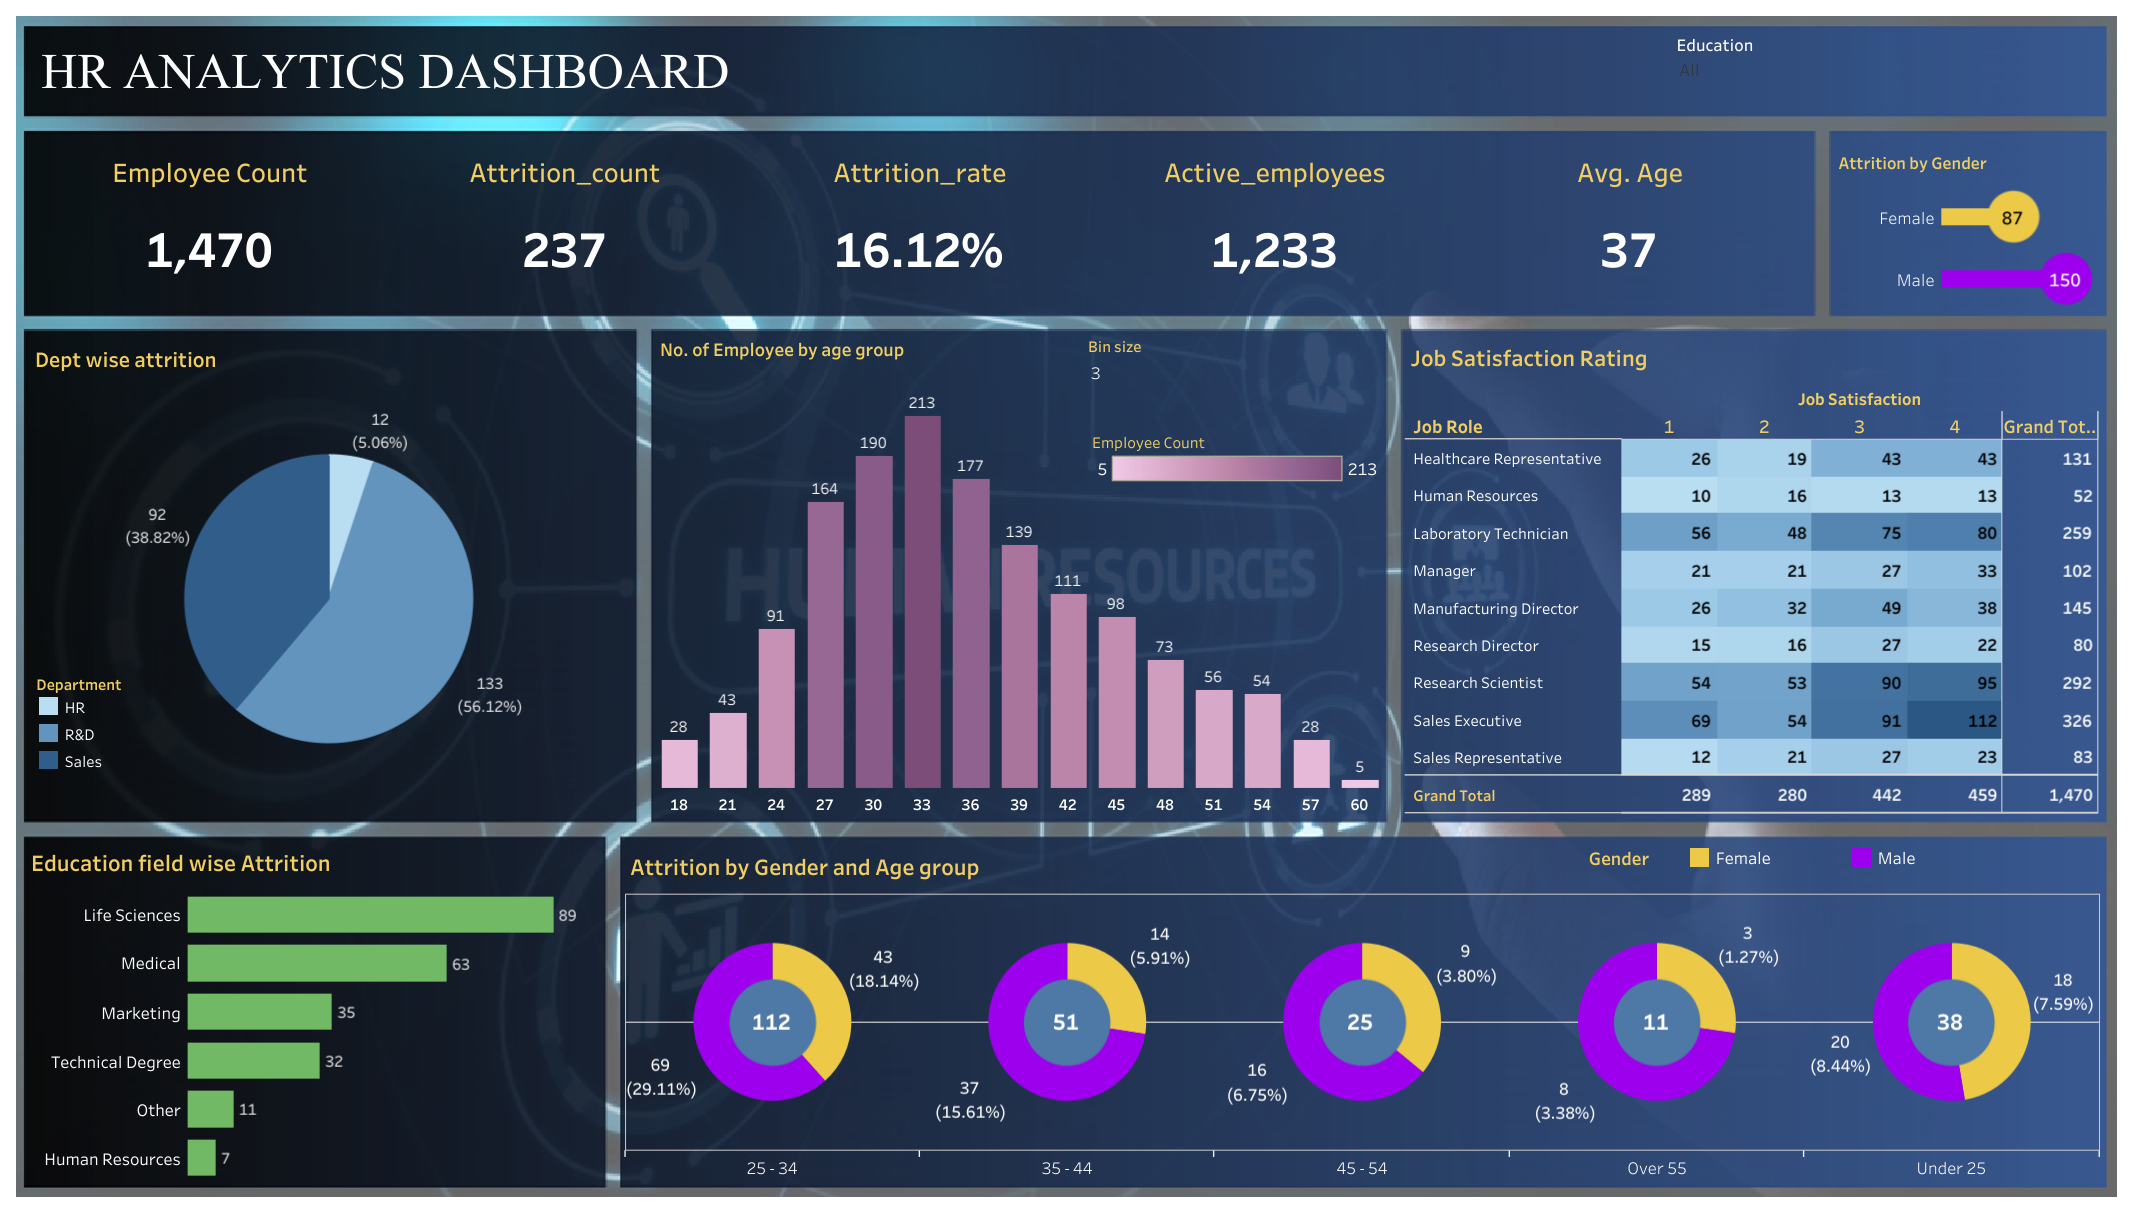

This screenshot's page, from the dashboard's own definition file:
{"tool":"tableau","page":{"name":"HR Analytics Dashboard","canvas":[1580,900],"ordinal":0},"visuals":[{"type":"image","param":"Image/HR background.png","box":[8,8,1564,884]},{"type":"text","box":[28,22,967,60]},{"type":"filter","title":"KPI","param":"[federated.00lw8580yt7e21120px890b2l973].[none:Education:nk]","box":[1242,23,312,55]},{"type":"worksheet","title":"KPI","mark":"Automatic","box":[24,101,1315,125]},{"type":"worksheet","title":"Attrition by Gender","mark":"Automatic","rows":["Gender"],"cols":["Calculation_329888731492929536","Calculation_329888731492929536"],"box":[1358,105,197,124]},{"type":"worksheet","title":"No. of Employee by age group","mark":"Automatic","rows":["Employee Count"],"cols":["Age (bin)"],"box":[485,243,540,361]},{"type":"worksheet","title":"Job Satisfaction Rating","mark":"Square","rows":["Job Role"],"cols":["Job Satisfaction"],"box":[1041,247,514,356]},{"type":"parameter","param":"[Parameters].[Parameter 1]","box":[806,248,220,51]},{"type":"worksheet","title":"Dept wise attrition","mark":"Pie","box":[22,249,443,353]},{"type":"legend","title":"No. of Employee by age group","param":"[federated.00lw8580yt7e21120px890b2l973].[sum:Employee Count:qk]","box":[809,314,216,67]},{"type":"legend","title":"Dept wise attrition","param":"[federated.00lw8580yt7e21120px890b2l973].[none:Department:nk]","box":[26,497,147,100]},{"type":"worksheet","title":"Education field wise Attrition","mark":"Automatic","rows":["Education Field"],"cols":["Calculation_329888731492929536"],"box":[19,621,428,255]},{"type":"worksheet","title":"Attrition by Gender and Age group","mark":"Pie","rows":["Calculation_1761751938061656065","Calculation_1761751938061656065"],"cols":["CF_age band"],"box":[463,624,1093,251]},{"type":"legend","title":"Attrition by Gender and Age group","param":"[federated.00lw8580yt7e21120px890b2l973].[none:Gender:nk]","box":[1177,625,378,37]}]}

Visuals, with their boxes in screenshot pixels (x1, y1, x2, y2), scaled from the page's 1580x900 canvas onto the 2132x1214 screenshot:
image: [left=11, top=11, right=2121, bottom=1203]
text: [left=38, top=30, right=1343, bottom=111]
"KPI" filter: [left=1676, top=31, right=2097, bottom=105]
"KPI" worksheet: [left=32, top=136, right=1807, bottom=305]
"Attrition by Gender" worksheet: [left=1832, top=142, right=2098, bottom=309]
"No. of Employee by age group" worksheet: [left=654, top=328, right=1383, bottom=815]
"Job Satisfaction Rating" worksheet (Square marks): [left=1405, top=333, right=2098, bottom=813]
parameter: [left=1088, top=335, right=1384, bottom=403]
"Dept wise attrition" worksheet (Pie marks): [left=30, top=336, right=627, bottom=812]
"No. of Employee by age group" legend: [left=1092, top=424, right=1383, bottom=514]
"Dept wise attrition" legend: [left=35, top=670, right=233, bottom=805]
"Education field wise Attrition" worksheet: [left=26, top=838, right=603, bottom=1182]
"Attrition by Gender and Age group" worksheet (Pie marks): [left=625, top=842, right=2100, bottom=1180]
"Attrition by Gender and Age group" legend: [left=1588, top=843, right=2098, bottom=893]
